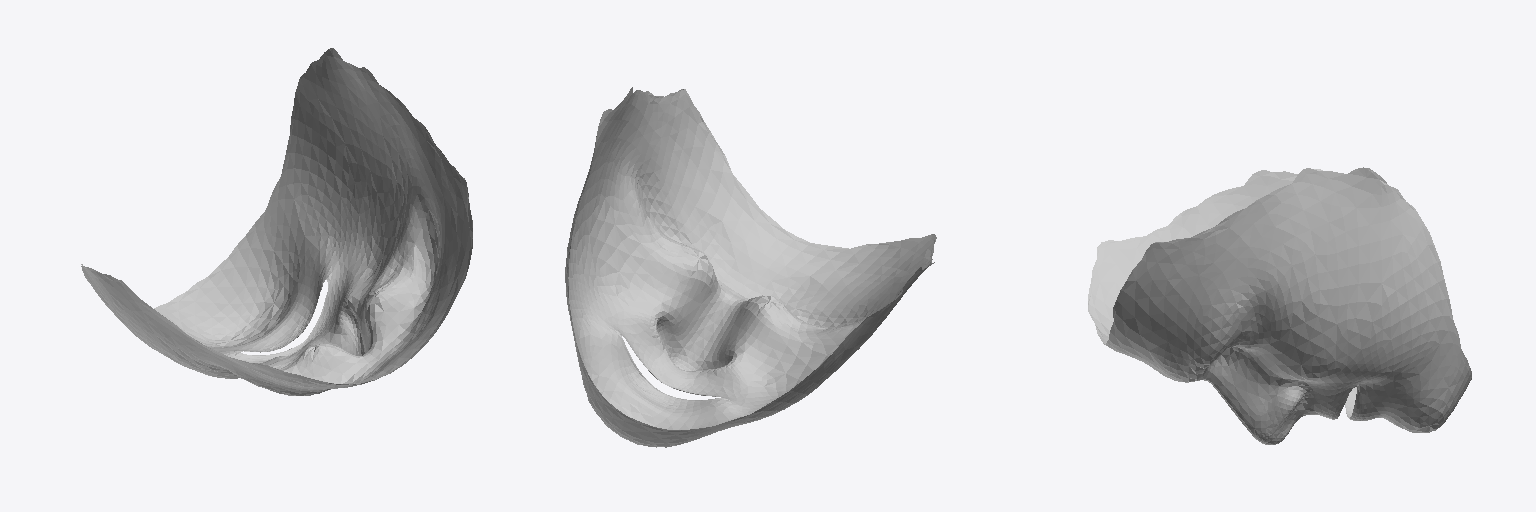
Rendered from face_gab_sfm36.obj.
The picture shows the model from 3 angles: view 1: azimuth 30°, elevation 25°; view 2: azimuth 150°, elevation 25°; view 3: azimuth 270°, elevation 25°; orthographic projection.
Size of the model in its own units: 164 by 152 by 178.